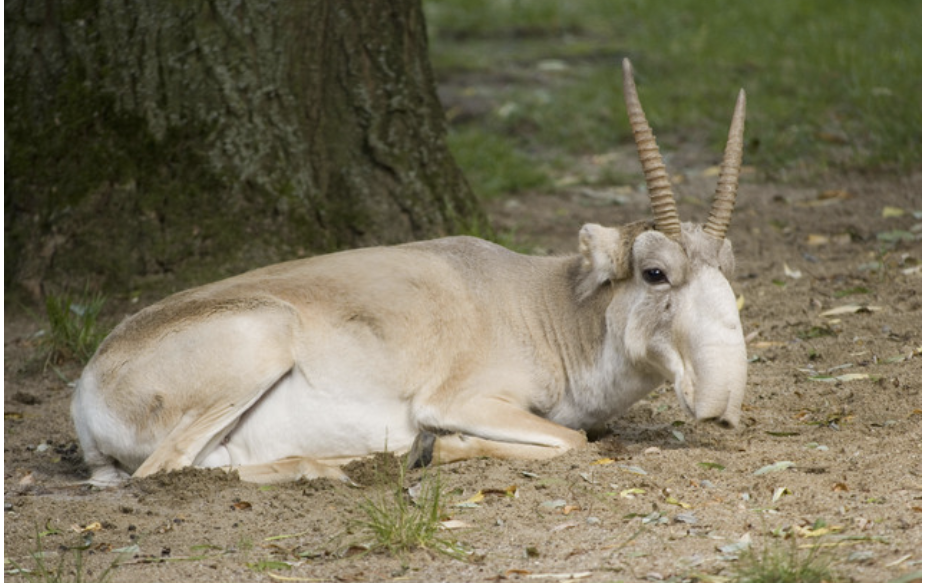saiga: (57, 63, 755, 472)
